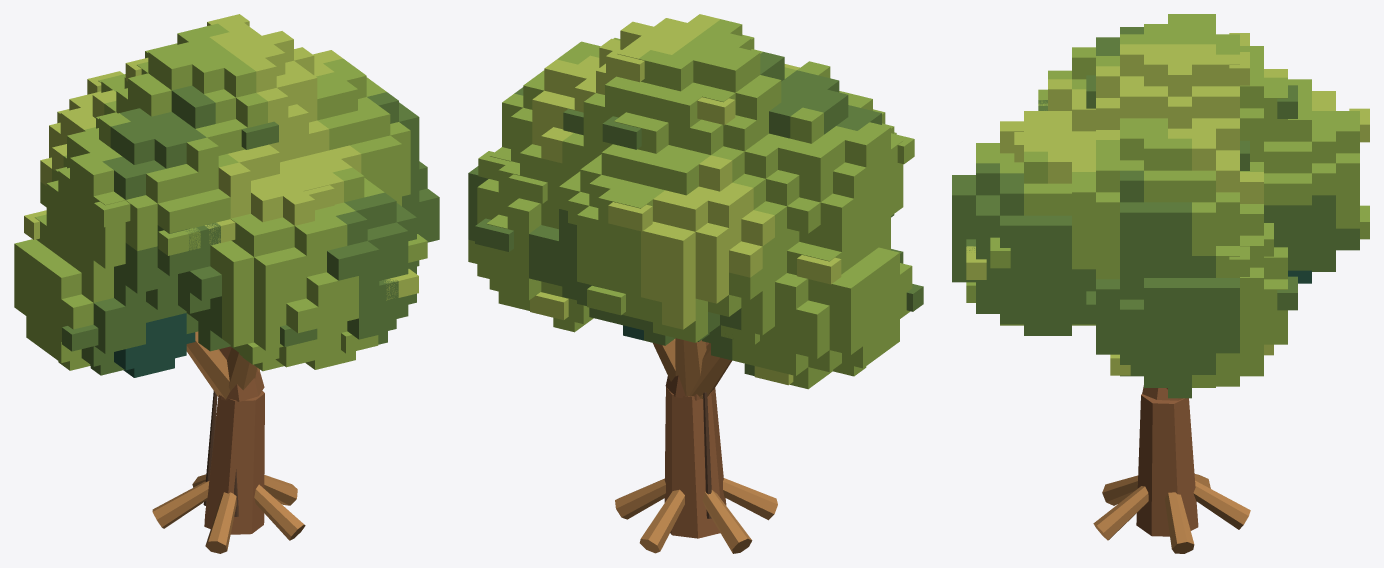
File: tree_broadleaf.glb
The picture shows the model from 3 angles, left to right: view 1: azimuth 30°, elevation 25°; view 2: azimuth 150°, elevation 25°; view 3: azimuth 270°, elevation 25°; orthographic projection. The views are drawn at different scales.
Parts seen in each view (by area): view 1: canopy__tree_leaf_light.026, canopy__tree_leaf_mid.026, canopy__tree_leaf_sun.026, body__wood.032, body__wood2.031, canopy__tree_leaf_shadow.026, body__wood_dark.034; view 2: canopy__tree_leaf_light.026, canopy__tree_leaf_sun.026, canopy__tree_leaf_mid.026, body__wood2.031, body__wood.032, body__wood_dark.034; view 3: canopy__tree_leaf_light.026, canopy__tree_leaf_mid.026, canopy__tree_leaf_sun.026, body__wood.032, body__wood2.031.
Part boxes in pixels (bbox=[...]): canopy__tree_leaf_light.026: bbox=[14, 23, 427, 371]; canopy__tree_leaf_mid.026: bbox=[62, 85, 439, 375]; canopy__tree_leaf_sun.026: bbox=[24, 14, 418, 300]; body__wood.032: bbox=[204, 346, 264, 534]; body__wood2.031: bbox=[152, 331, 305, 553]; canopy__tree_leaf_shadow.026: bbox=[114, 313, 195, 377]; body__wood_dark.034: bbox=[203, 391, 238, 516]; canopy__tree_leaf_light.026: bbox=[468, 19, 914, 389]; canopy__tree_leaf_sun.026: bbox=[530, 14, 841, 385]; canopy__tree_leaf_mid.026: bbox=[468, 52, 923, 375]; body__wood2.031: bbox=[615, 338, 777, 553]; body__wood.032: bbox=[664, 342, 726, 538]; body__wood_dark.034: bbox=[703, 392, 711, 518]; canopy__tree_leaf_light.026: bbox=[966, 14, 1369, 387]; canopy__tree_leaf_mid.026: bbox=[952, 27, 1359, 398]; canopy__tree_leaf_sun.026: bbox=[966, 33, 1369, 375]; body__wood.032: bbox=[1136, 385, 1198, 536]; body__wood2.031: bbox=[1093, 388, 1250, 553].
Bounding box in the file's own units: 3.29 × 3.98 × 3.13.
